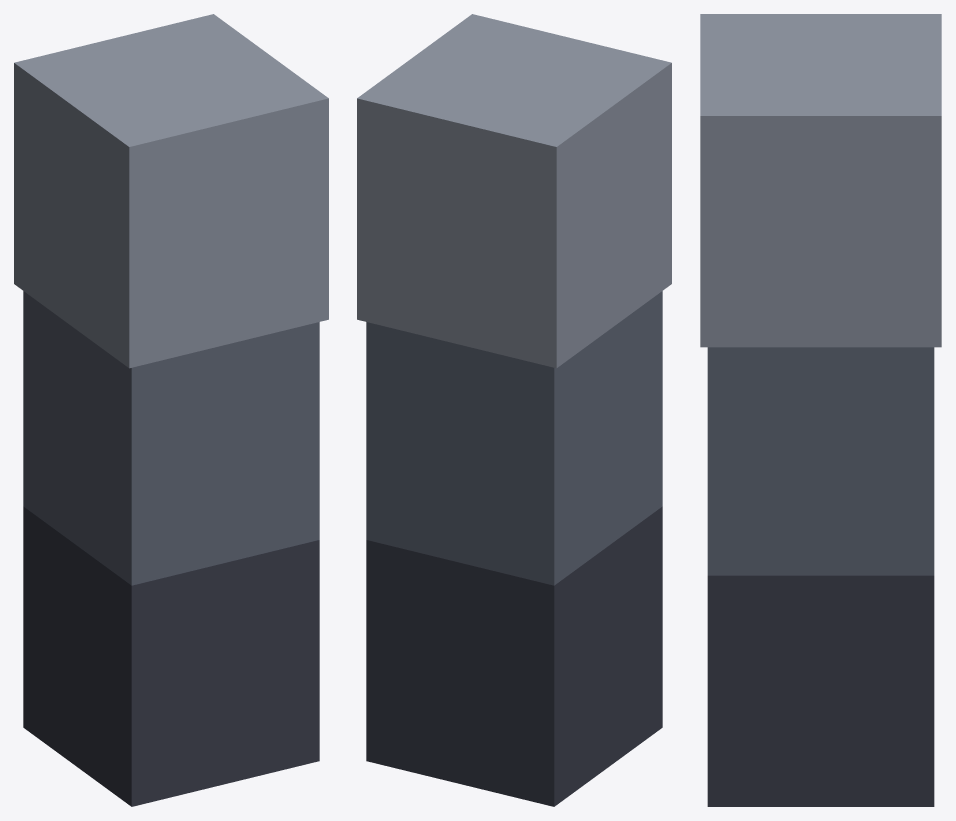
File: TW_STONE_POST_A_LOD0.glb
3 renders of one model, left to right at view 1: azimuth 30°, elevation 25°; view 2: azimuth 150°, elevation 25°; view 3: azimuth 270°, elevation 25°, orthographic. The views are drawn at different scales.
Visible parts, largest first — view 1: TW_STONE_POST_A_LOD0; view 2: TW_STONE_POST_A_LOD0; view 3: TW_STONE_POST_A_LOD0.
Boxes of the visible parts, box(x1,y1,x2,y2) form: TW_STONE_POST_A_LOD0: box(14, 14, 328, 806); TW_STONE_POST_A_LOD0: box(357, 14, 671, 806); TW_STONE_POST_A_LOD0: box(700, 14, 941, 806).
Bounding box in the file's own units: 0.34 × 1.08 × 0.34.
1 material, 1 textured.
